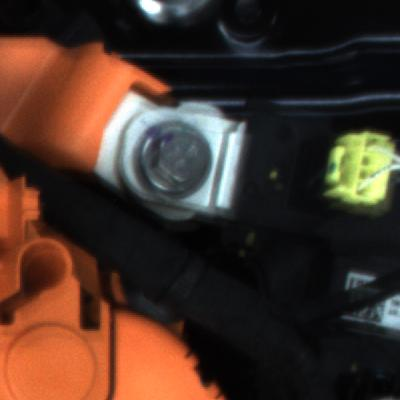nut_b: (129, 119, 215, 196)
